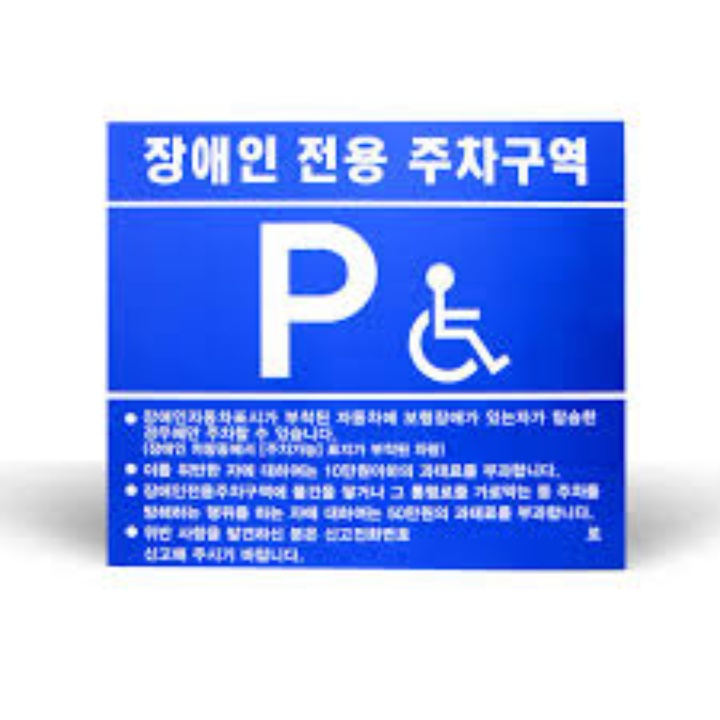parking: (249, 212, 383, 386)
